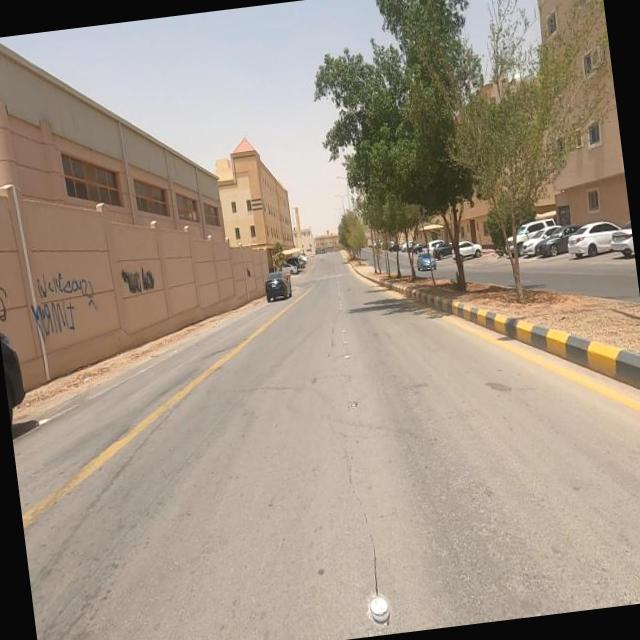debris: (0, 198, 155, 411), (90, 229, 196, 347)
